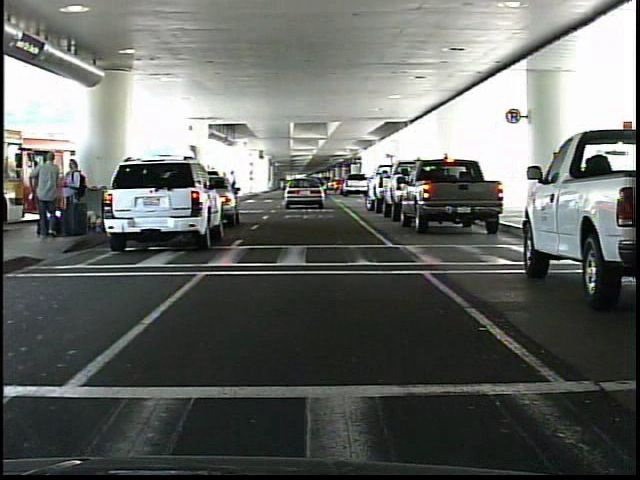person: (33, 152, 64, 241), (61, 156, 88, 241)
